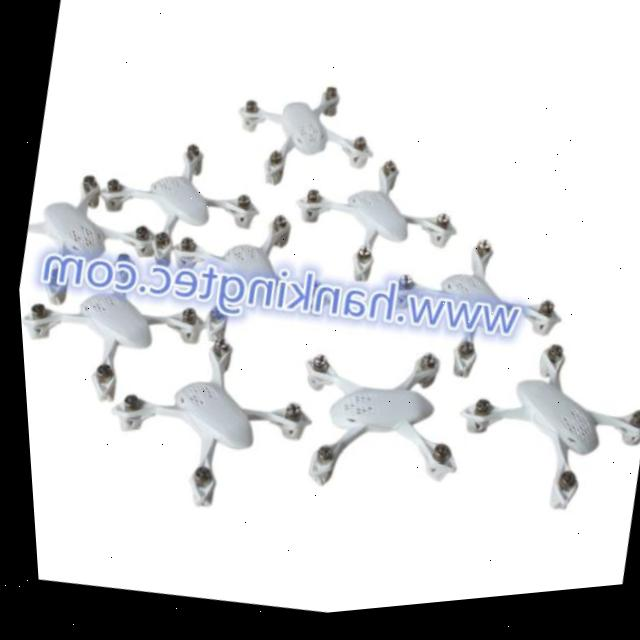drones: (77, 312, 318, 544), (268, 326, 476, 549), (439, 316, 640, 544), (264, 141, 487, 319), (13, 235, 211, 425), (213, 50, 396, 218), (83, 118, 260, 287), (9, 159, 181, 318)
